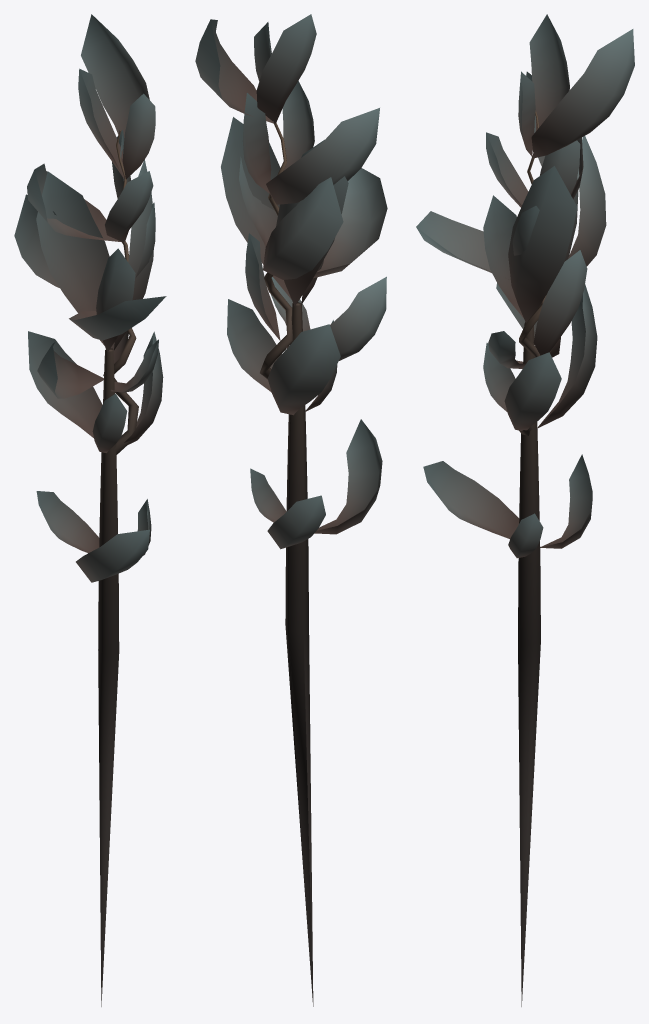
Rendered from plants-bushes-twigs-silver-sprig_v4.glb.
3 renders of one model, left to right at view 1: azimuth 30°, elevation 25°; view 2: azimuth 150°, elevation 25°; view 3: azimuth 270°, elevation 25°, orthographic. The views are drawn at different scales.
Visible parts, largest first — view 1: Silver Sprig_v4; view 2: Silver Sprig_v4; view 3: Silver Sprig_v4.
Part boxes in pixels (left/top/right/bottom): Silver Sprig_v4: left=14, top=14, right=166, bottom=1006; Silver Sprig_v4: left=195, top=14, right=387, bottom=1006; Silver Sprig_v4: left=416, top=14, right=634, bottom=1006.
Bounding box in the file's own units: 0.0598 × 0.4 × 0.0791.
